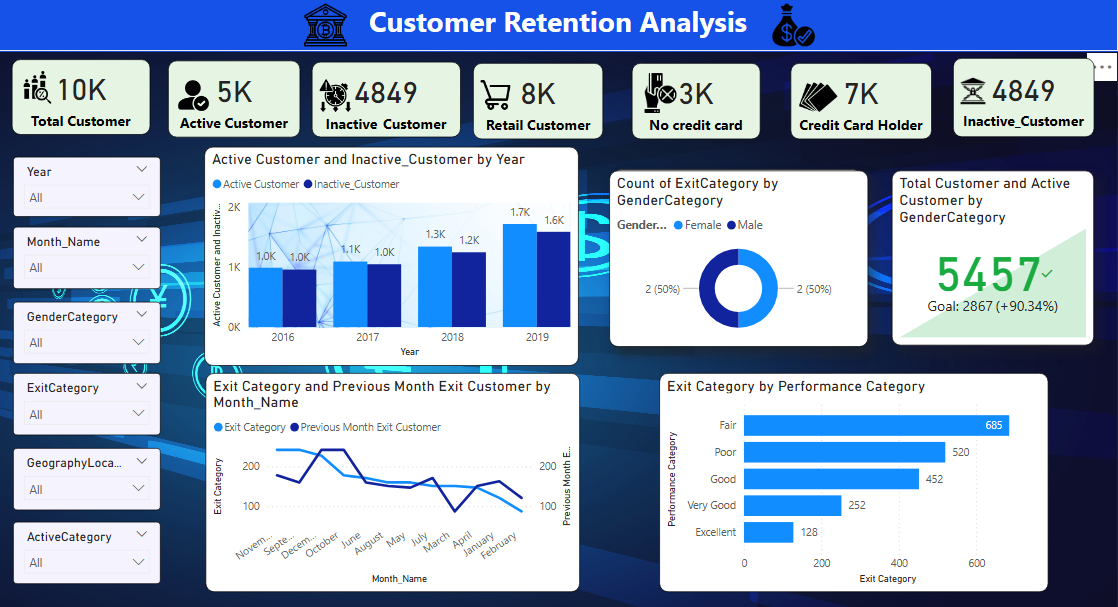

The page's visual inventory and layout, read from the dashboard file:
{"tool":"powerbi","page":{"name":"Page 1","canvas":[1280,700],"ordinal":0},"visuals":[{"type":"card","fields":{"Values":["Table.Active Customer"]},"box":[194.2,71.7,150.8,88.3],"z":0},{"type":"card","fields":{"Values":["Table.Total CUstomer"]},"box":[15,70,158.3,86.7],"z":1000},{"type":"card","fields":{"Values":["Table.Inactive_Customer"]},"box":[358.9,72.2,170,86.7],"z":2000},{"type":"textbox","box":[0,0,1280,61.7],"z":3000},{"type":"card","fields":{"Values":["Table.Credit Card Holder"]},"box":[905.7,74.3,161.4,87.1],"z":4000},{"type":"card","fields":{"Values":["Table.Inactive_Customer"]},"box":[1091.4,68.6,161.4,90],"z":5000},{"type":"card","fields":{"Values":["Table.Retail Customer"]},"box":[542.7,74.5,149.1,87.3],"z":6000},{"type":"card","fields":{"Values":["Table.No credit card"]},"box":[724.3,74.3,147.1,87.1],"z":7000},{"type":"slicer","fields":{"Values":["DateMaster.Year"]},"box":[17.1,181.4,168.6,68.6],"z":8000},{"type":"slicer","fields":{"Values":["DateMaster.Month_Name"]},"box":[17.1,261.4,168.6,71.4],"z":9000},{"type":"slicer","fields":{"Values":["Sheet1 (2).GeographyLocation"]},"box":[17.1,514.3,168.6,71.4],"z":10000},{"type":"slicer","fields":{"Values":["Table1.ActiveCategory"]},"box":[17.1,598.6,168.6,71.4],"z":11000},{"type":"slicer","fields":{"Values":["Table1 (3).ExitCategory"]},"box":[17.1,428.6,168.6,71.4],"z":12000},{"type":"slicer","fields":{"Values":["Sheet1.GenderCategory"]},"box":[17.1,347.1,168.6,71.4],"z":13000},{"type":"clusteredColumnChart","fields":{"Category":["DateMaster.Year"],"Y":["Table.Active Customer","Previous month exit customer.Inactive_Customer"]},"box":[236,170,428,250],"z":14000},{"type":"lineChart","fields":{"Category":["DateMaster.Month_Name"],"Y":["Previous month exit customer.Exit Category"],"Y2":["Previous month exit customer.Previous Month Exit Customer"]},"box":[236.7,428.3,428.3,250],"z":15000},{"type":"kpi","fields":{"Indicator":["Previous month exit customer.Total Customer"],"Goal":["Previous month exit customer.Active Customer"],"TrendLine":["Sheet1.GenderCategory"]},"box":[1021.2,197.5,231.2,200],"z":16000},{"type":"image","box":[336.7,0,75,61.7],"z":17000},{"type":"image","box":[865,0,86.7,61.7],"z":18000},{"type":"image","box":[16.7,75,56.7,53.3],"z":19000},{"type":"image","box":[194.2,87.5,59.2,49.2],"z":20000},{"type":"image","box":[358.9,87.8,53.3,48.9],"z":21000},{"type":"image","box":[542.2,83.3,51.1,56.7],"z":22000},{"type":"image","box":[726.7,76.7,60,63.3],"z":23000},{"type":"image","box":[905.7,85.7,62.9,55],"z":24000},{"type":"image","box":[1091.8,85.5,46.4,40.9],"z":25000},{"type":"clusteredBarChart","fields":{"Category":["Bank_Churn.Performance Category"],"Y":["Previous month exit customer.Exit Category"]},"box":[756.2,428.8,445,250],"z":26000},{"type":"donutChart","fields":{"Category":["Table1.ActiveCategory"],"Y":["Previous month exit customer.Total Customer"]},"box":[702.9,195.7,284.3,200],"z":27000},{"type":"bookmarkNavigator","box":[652.9,371.4,600,50],"z":28001}]}

Visuals, with their boxes in screenshot pixels (x1, y1, x2, y2), scaled from the page's 1280x700 canvas onto the 1118x607 screenshot:
card - Table.Active Customer: (170, 62, 301, 139)
card - Table.Total CUstomer: (13, 61, 151, 136)
card - Table.Inactive_Customer: (313, 63, 462, 138)
textbox: (0, 0, 1117, 54)
card - Table.Credit Card Holder: (791, 64, 932, 140)
card - Table.Inactive_Customer: (953, 59, 1094, 138)
card - Table.Retail Customer: (474, 65, 604, 140)
card - Table.No credit card: (633, 64, 761, 140)
slicer - DateMaster.Year: (15, 157, 162, 217)
slicer - DateMaster.Month_Name: (15, 227, 162, 289)
slicer - Sheet1 (2).GeographyLocation: (15, 446, 162, 508)
slicer - Table1.ActiveCategory: (15, 519, 162, 581)
slicer - Table1 (3).ExitCategory: (15, 372, 162, 434)
slicer - Sheet1.GenderCategory: (15, 301, 162, 363)
clusteredColumnChart - DateMaster.Year x Table.Active Customer: (206, 147, 580, 364)
lineChart - DateMaster.Month_Name x Previous month exit customer.Exit Category: (207, 371, 581, 588)
kpi - Previous month exit customer.Total Customer x Previous month exit customer.Active Customer: (892, 171, 1094, 345)
image: (294, 0, 360, 54)
image: (756, 0, 831, 54)
image: (15, 65, 64, 111)
image: (170, 76, 221, 119)
image: (313, 76, 360, 119)
image: (474, 72, 518, 121)
image: (635, 67, 687, 121)
image: (791, 74, 846, 122)
image: (954, 74, 994, 110)
clusteredBarChart - Bank_Churn.Performance Category x Previous month exit customer.Exit Category: (660, 372, 1049, 589)
donutChart - Table1.ActiveCategory x Previous month exit customer.Total Customer: (614, 170, 862, 343)
bookmarkNavigator: (570, 322, 1094, 365)
